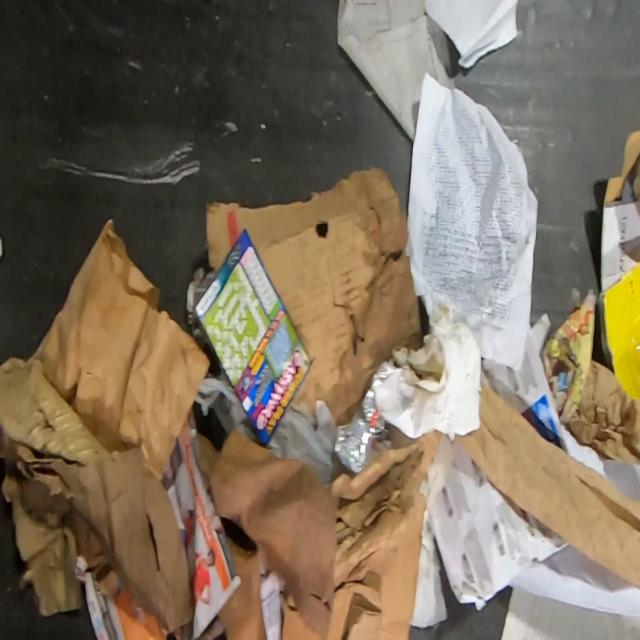cardboard: (204, 162, 424, 425), (281, 422, 445, 640), (422, 0, 524, 70), (599, 125, 640, 292), (601, 262, 640, 407)
soft_plastic: (266, 369, 348, 484), (332, 354, 410, 474), (192, 364, 259, 443)
